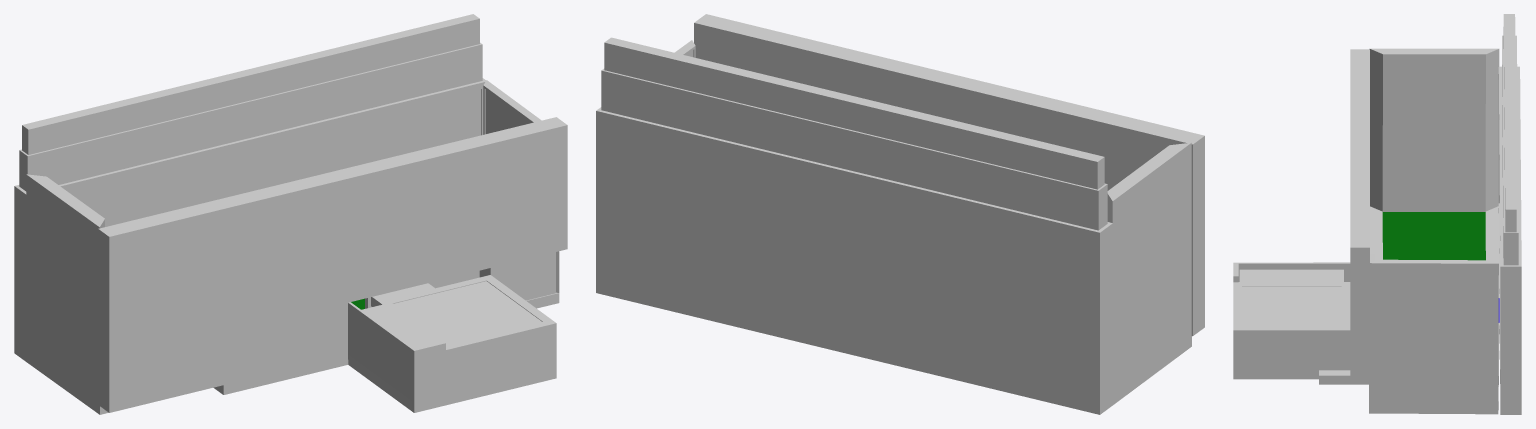
Rendered from fuck.gltf.
3 views of the same model, side by side, from view 1: azimuth 30°, elevation 25°; view 2: azimuth 150°, elevation 25°; view 3: azimuth 270°, elevation 25° (orthographic). The views are drawn at different scales.
Parts seen in each view (by area): view 1: Cube; view 2: Cube; view 3: Cube.
Boxes of the visible parts, bbox=[...] form: Cube: bbox=[14, 14, 567, 414]; Cube: bbox=[596, 14, 1204, 414]; Cube: bbox=[1233, 14, 1521, 414].
Size of the model in its own units: 286 by 135 by 174.
